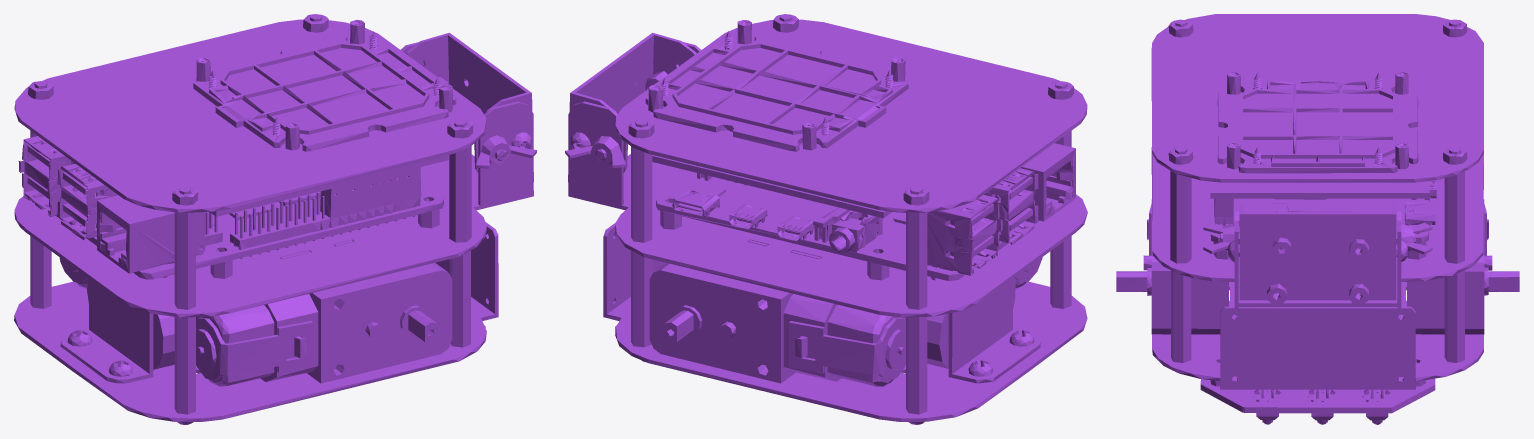
The picture shows the model from 3 angles, left to right: view 1: azimuth 30°, elevation 25°; view 2: azimuth 150°, elevation 25°; view 3: azimuth 270°, elevation 25°; orthographic projection. The views are drawn at different scales.
Visible parts, largest first — view 1: node; view 2: node; view 3: node.
Part boxes in pixels (left/top/right/bottom): node: left=14, top=14, right=536, bottom=424; node: left=565, top=14, right=1087, bottom=424; node: left=1116, top=14, right=1519, bottom=424.
Size of the model in its own units: 0.1203 by 0.103 by 0.0761.
